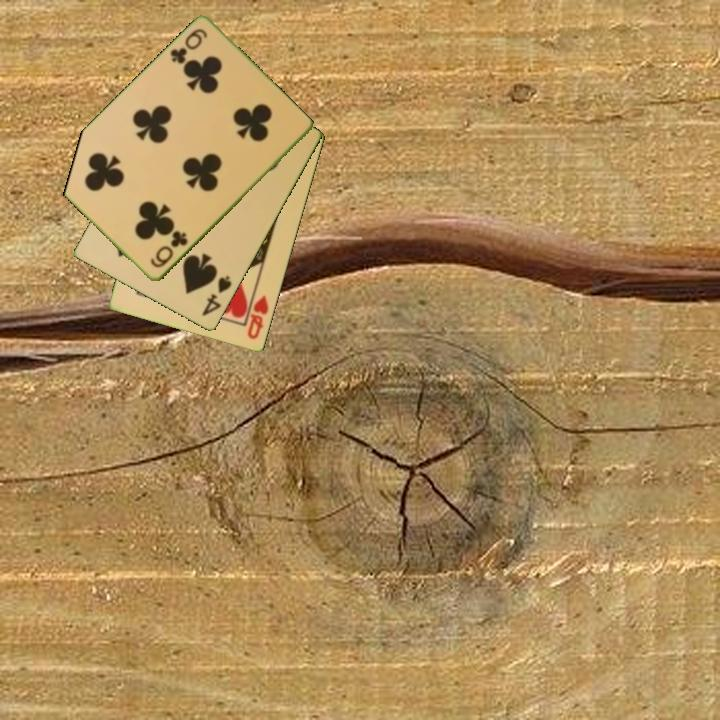4s: (198, 272, 235, 320)
6c: (147, 227, 191, 271), (166, 25, 210, 68)
Qh: (242, 287, 272, 343)
